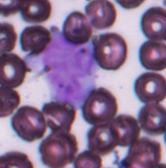M: (41, 31, 97, 104)
